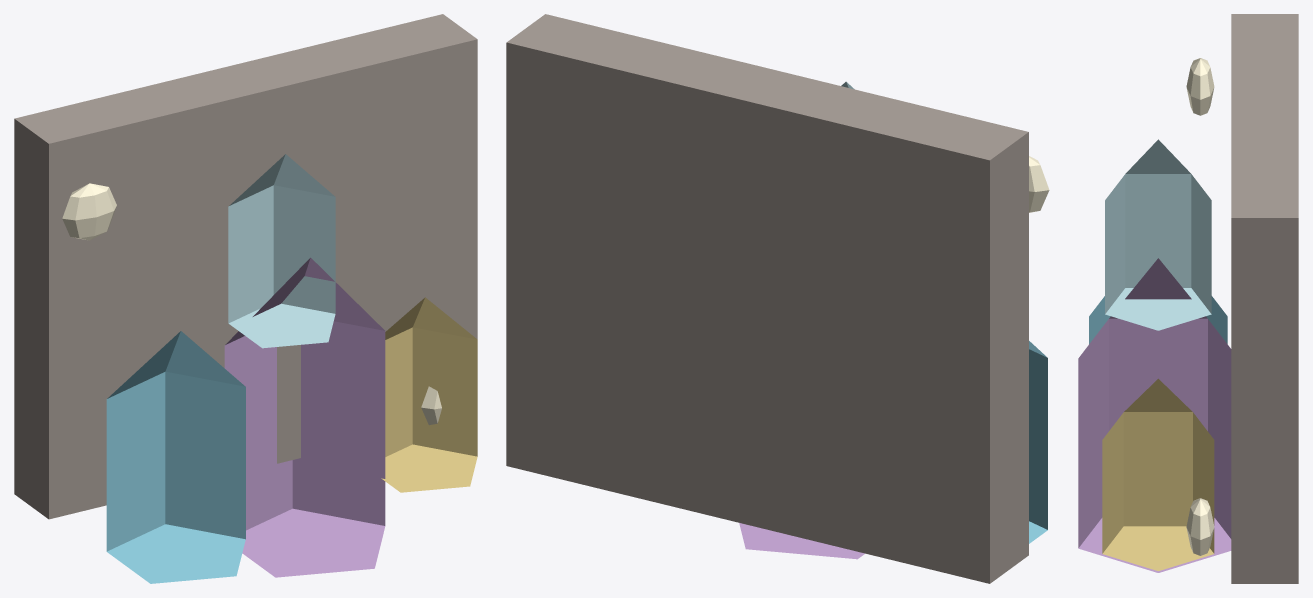
The model's file is veta_pared.glb.
3 renders of one model, left to right at view 1: azimuth 30°, elevation 25°; view 2: azimuth 150°, elevation 25°; view 3: azimuth 270°, elevation 25°, orthographic. The views are drawn at different scales.
Parts seen in each view (by area): view 1: veta_pared; view 2: veta_pared; view 3: veta_pared.
Part boxes in pixels (box(x1,y1,x2,y2)): veta_pared: box(14, 14, 477, 583); veta_pared: box(506, 14, 1049, 583); veta_pared: box(1078, 14, 1298, 583).
Bounding box in the file's own units: 0.865 × 0.82 × 0.3927.
